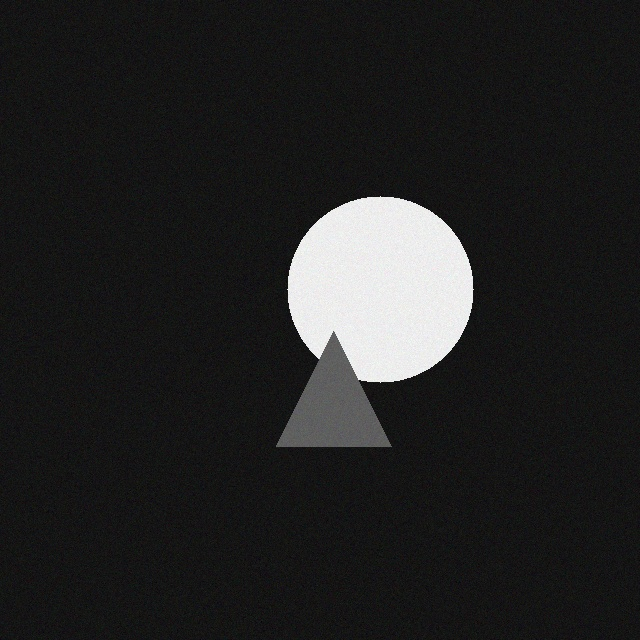circle: (302, 193, 488, 379)
triangle: (291, 328, 406, 443)
